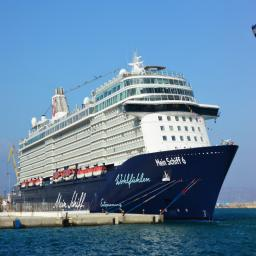cruises: (17, 48, 242, 228)
